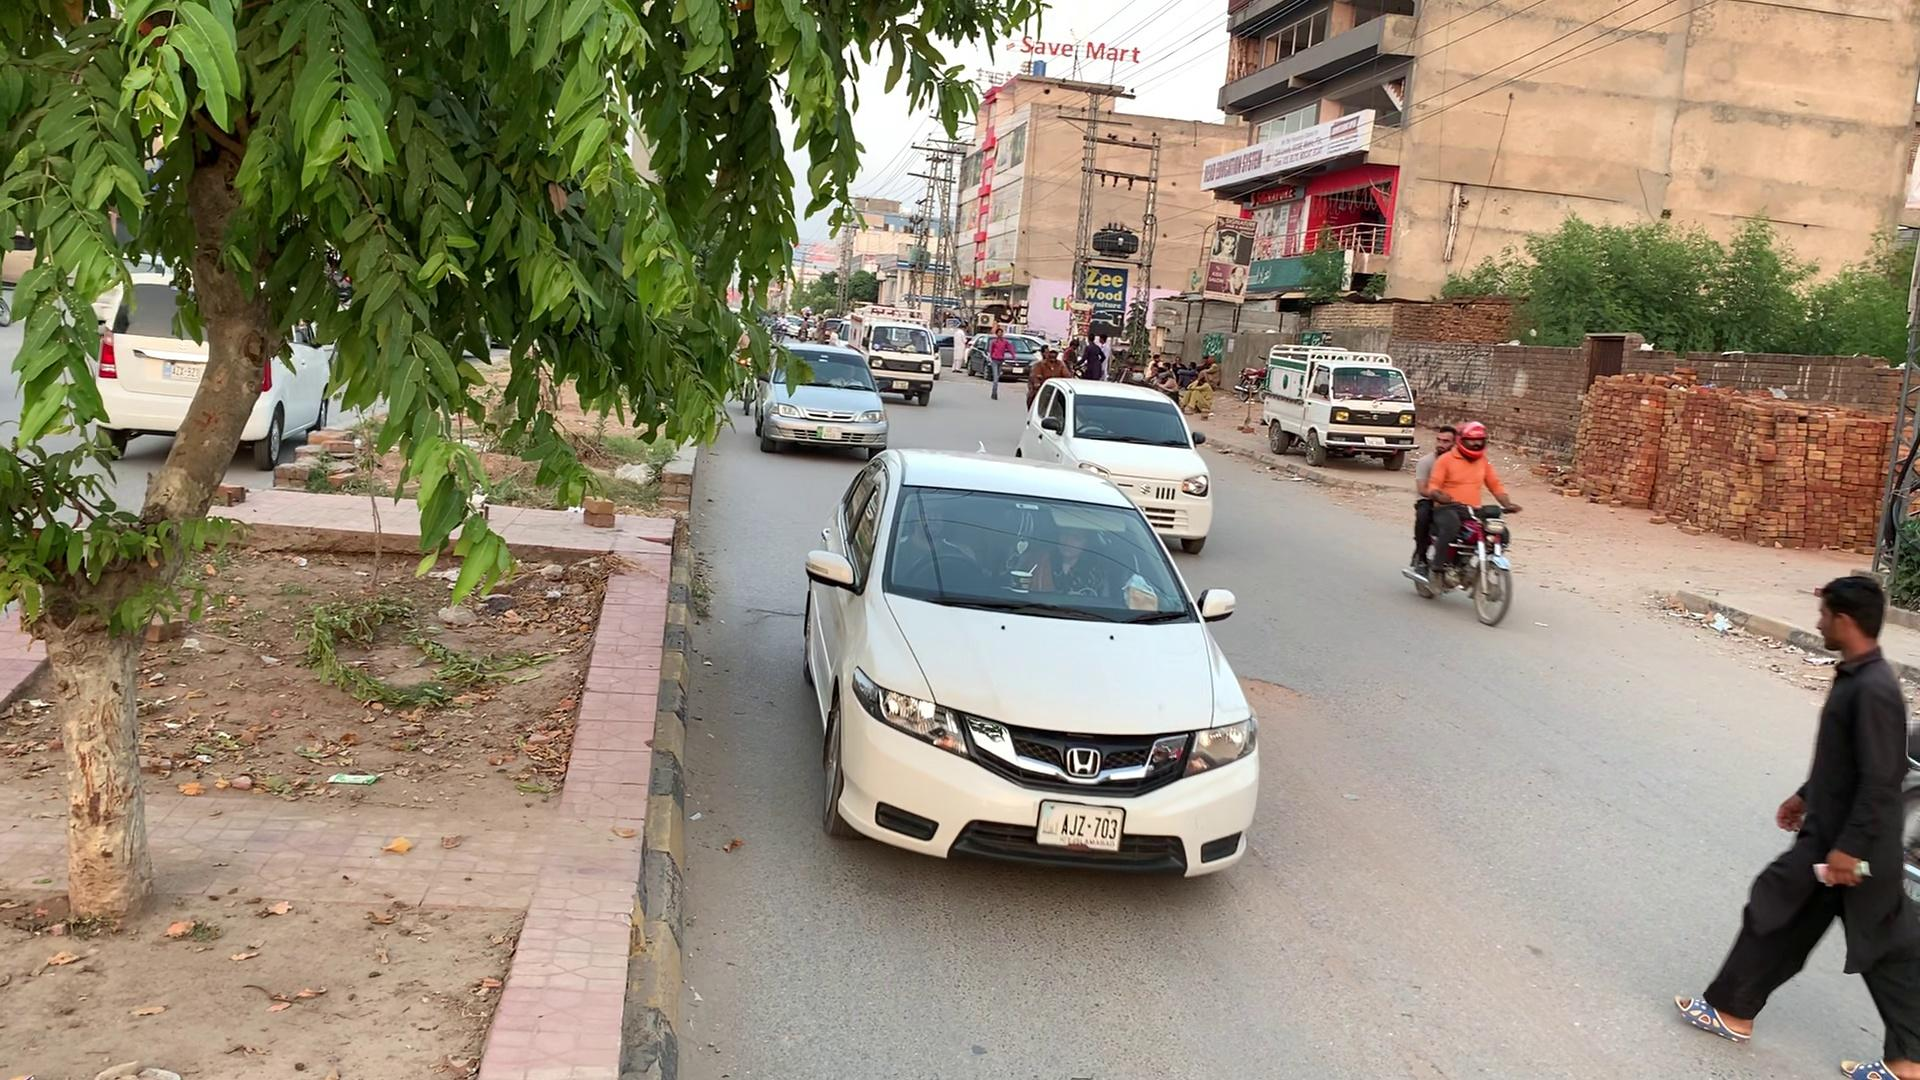windshield: (874, 463, 1217, 630)
